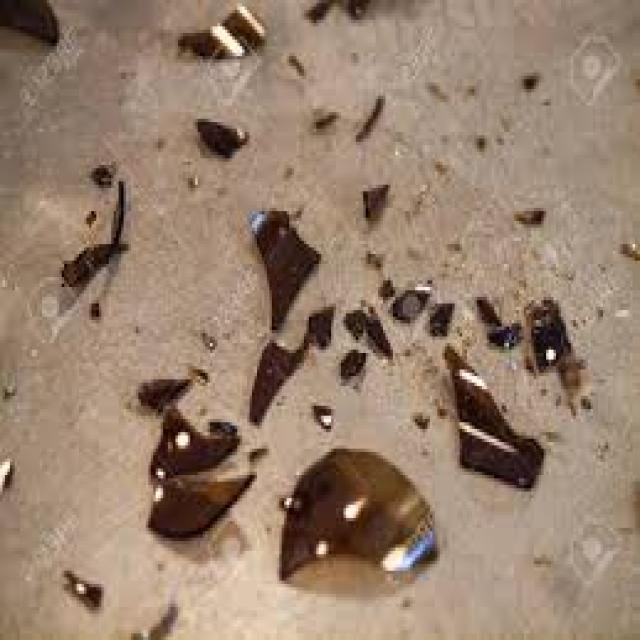Glass: (282, 446, 438, 586), (446, 337, 544, 493), (251, 293, 337, 426), (251, 204, 325, 330), (148, 473, 258, 544), (148, 402, 240, 478), (179, 4, 268, 63), (526, 300, 574, 374), (0, 0, 59, 49), (192, 114, 252, 160)
